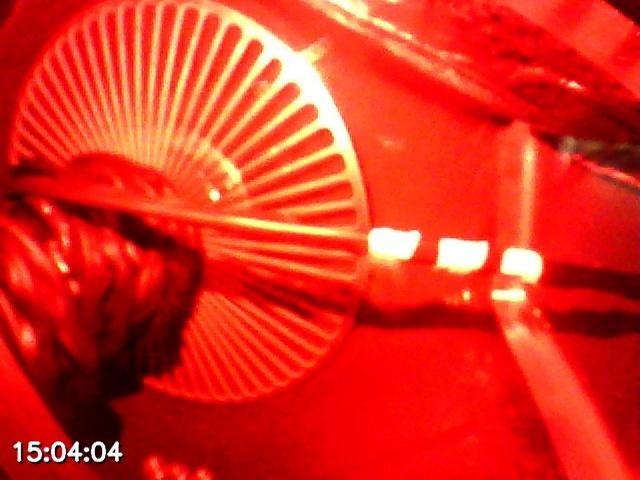white-dots: (367, 226, 544, 284)
